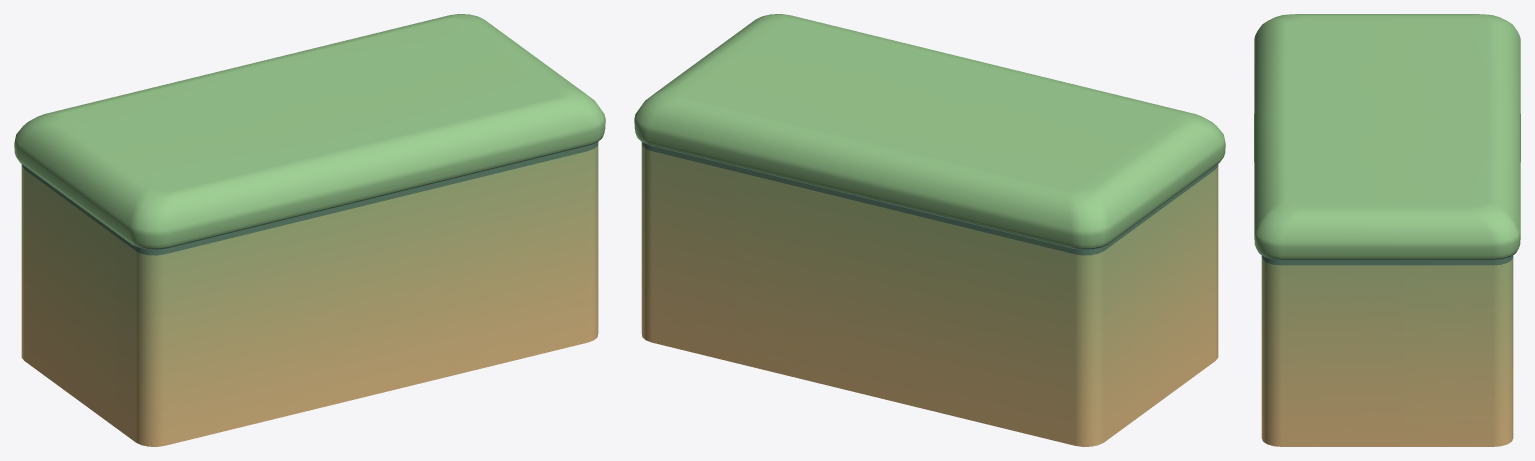
Rendered from platform_2.fbx.
3 views of the same model, side by side, from view 1: azimuth 30°, elevation 25°; view 2: azimuth 150°, elevation 25°; view 3: azimuth 270°, elevation 25° (orthographic). The views are drawn at different scales.
Visible parts, largest first — view 1: platform_2; view 2: platform_2; view 3: platform_2.
Part boxes in pixels (left/top/right/bottom): platform_2: left=14, top=14, right=605, bottom=446; platform_2: left=634, top=14, right=1225, bottom=446; platform_2: left=1254, top=14, right=1520, bottom=446.
Size of the model in its own units: 206 by 100 by 106.
